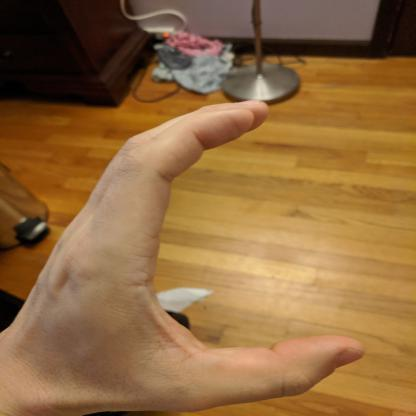C: (1, 95, 370, 415)
